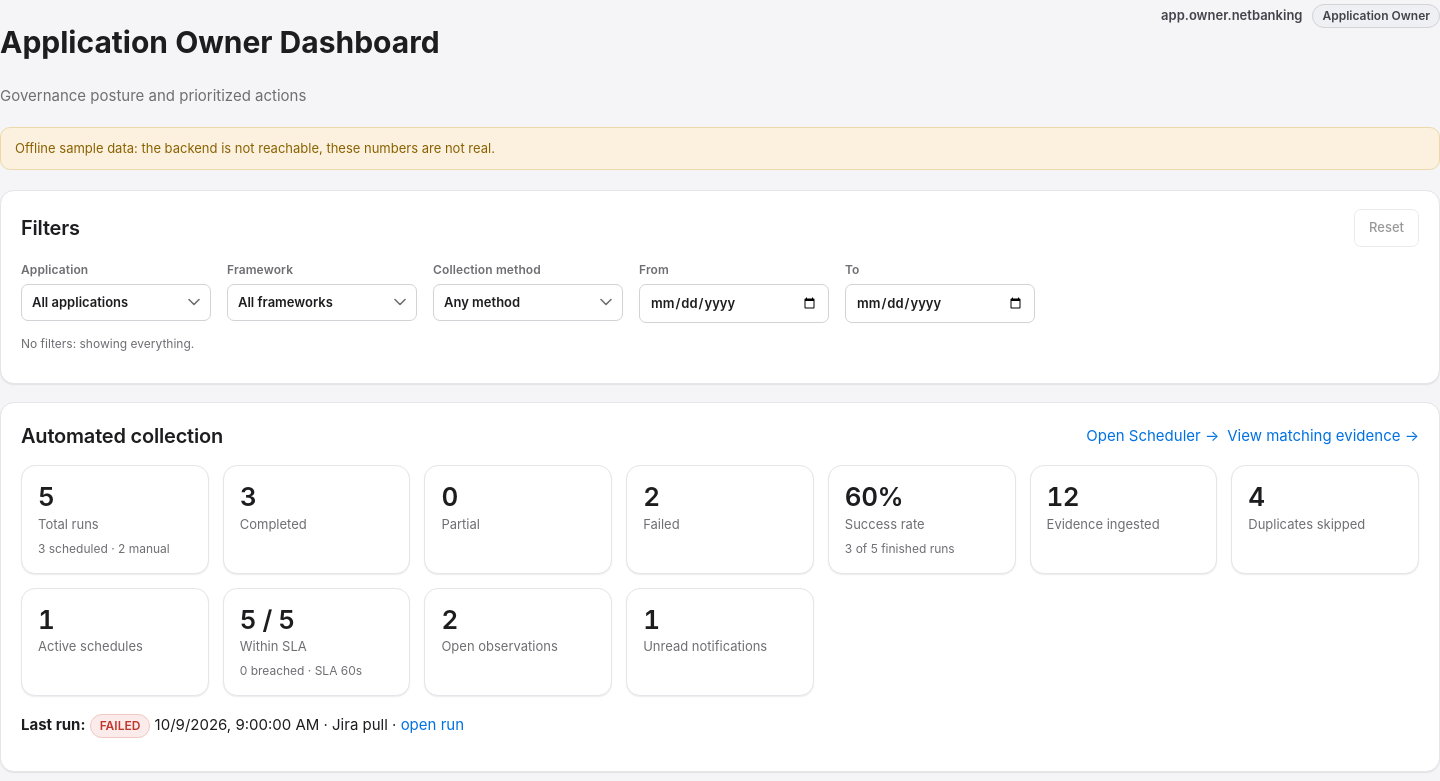
Test case: Dashboard — App Owner › changing a filter refetches with those params, empty results show zeros and Reset restores everything
Step 1. Select "Net Banking" in the dropdown labelled "Application" → (116, 302), box x1=21 y1=284 x2=211 y2=321
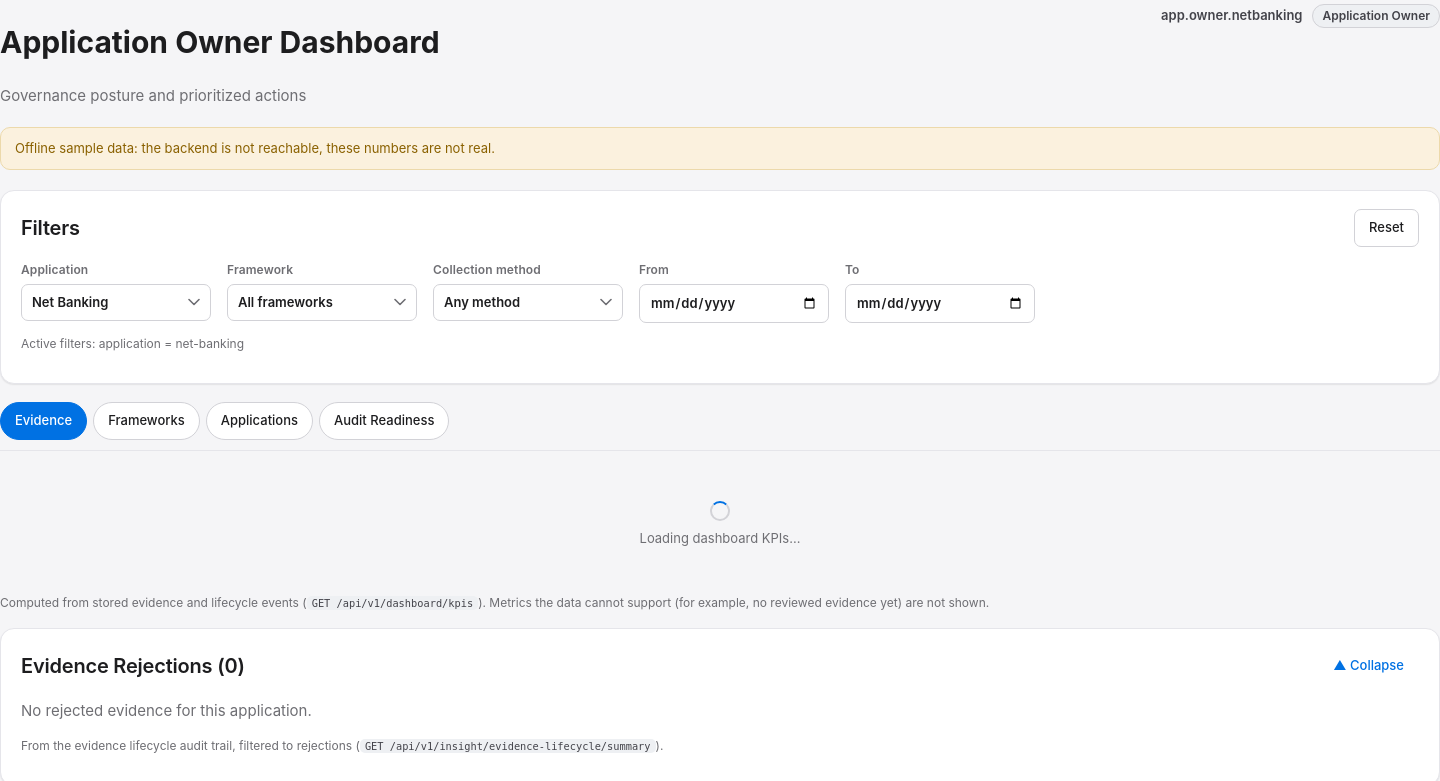
Step 2. Select "scheduled" in the dropdown labelled "Collection method" → (528, 302), box x1=433 y1=284 x2=623 y2=321
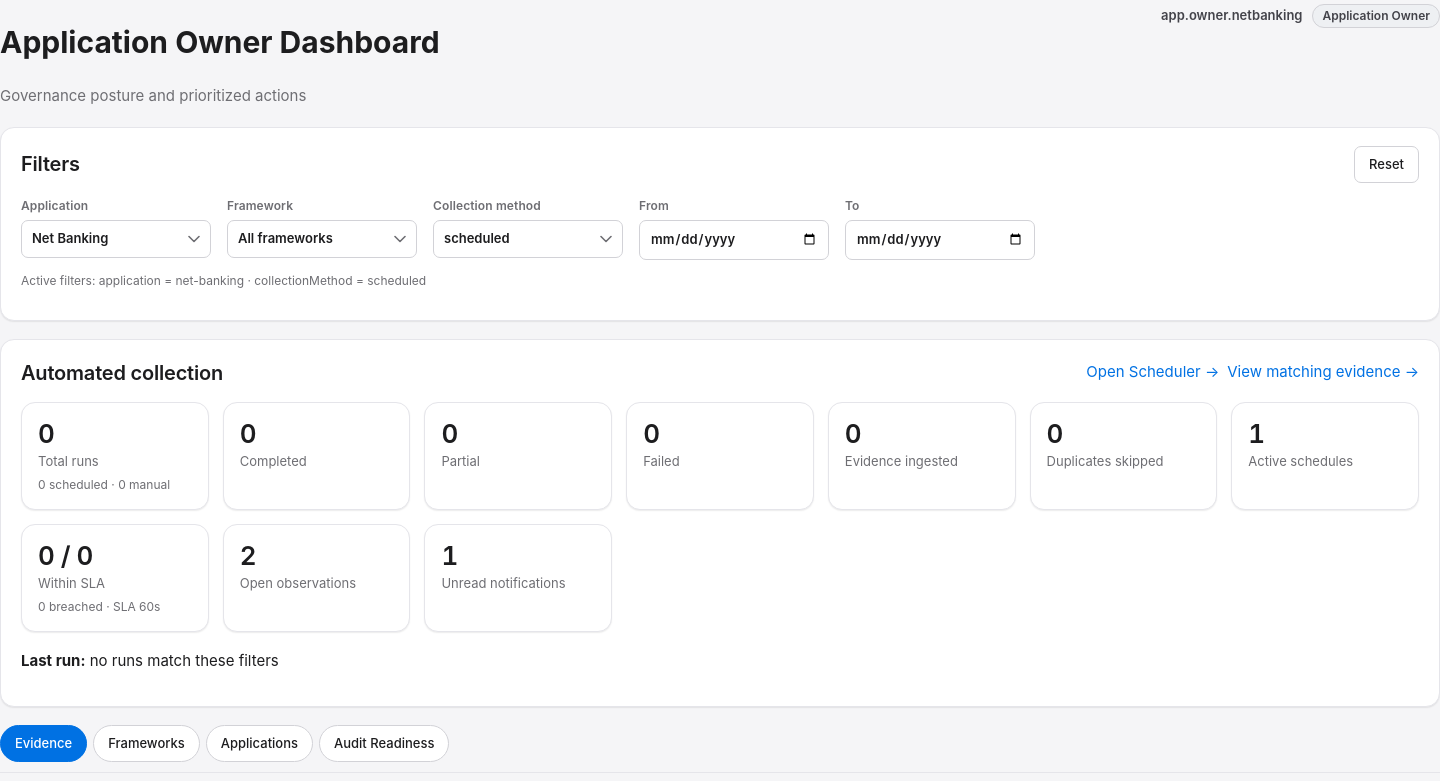
expect the text "42.9%" is not shown: met
expect the text "Last run: no runs match these filters" is shown: met, box x1=21 y1=652 x2=279 y2=670
expect the text labelled "Active filters" shows "collectionMethod = scheduled": met, box x1=21 y1=273 x2=426 y2=288
Step 3. Click the button "Reset" → (1386, 164), box x1=1354 y1=146 x2=1419 y2=183
(page scrolled)
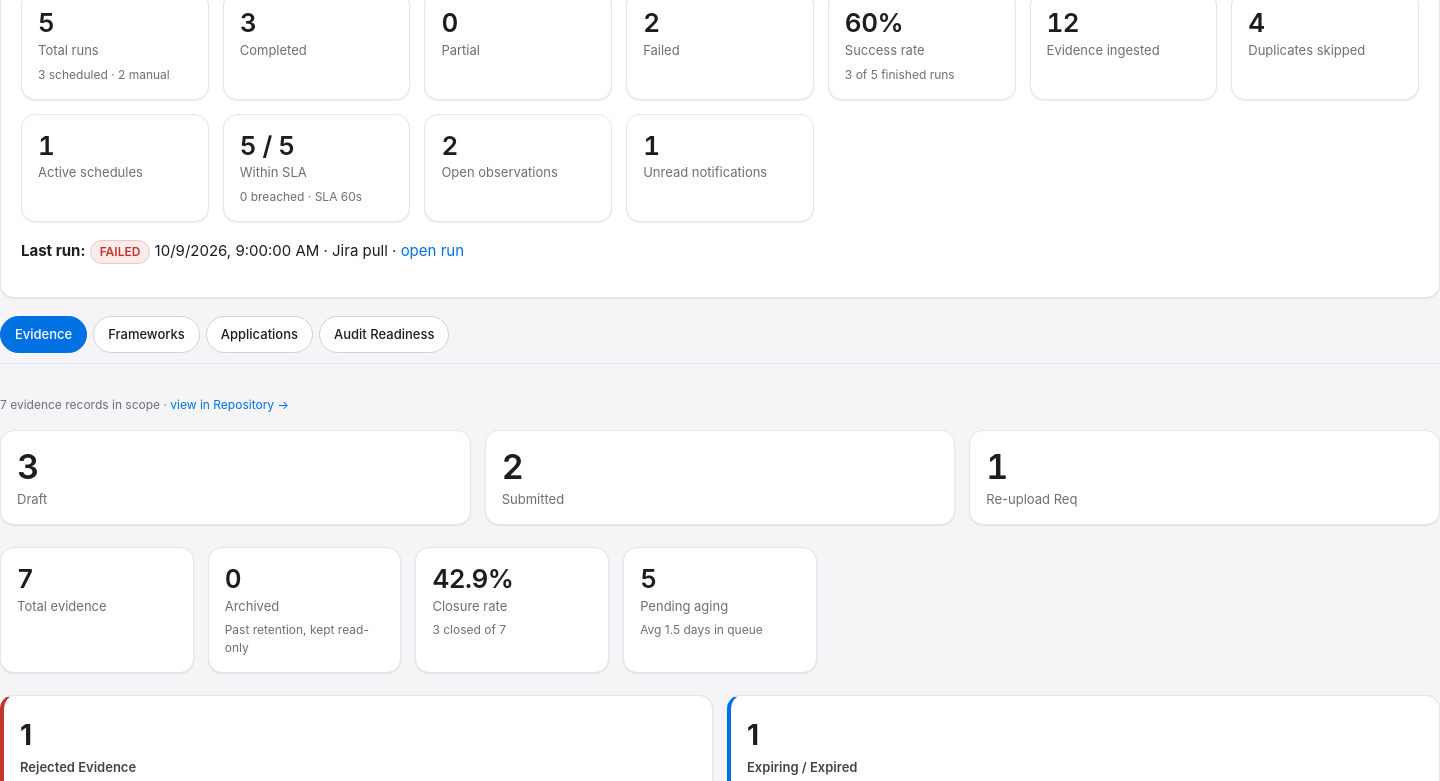
expect the element named "Evidence in scope" shows "7 evidence records": met, box x1=0 y1=398 x2=289 y2=412
